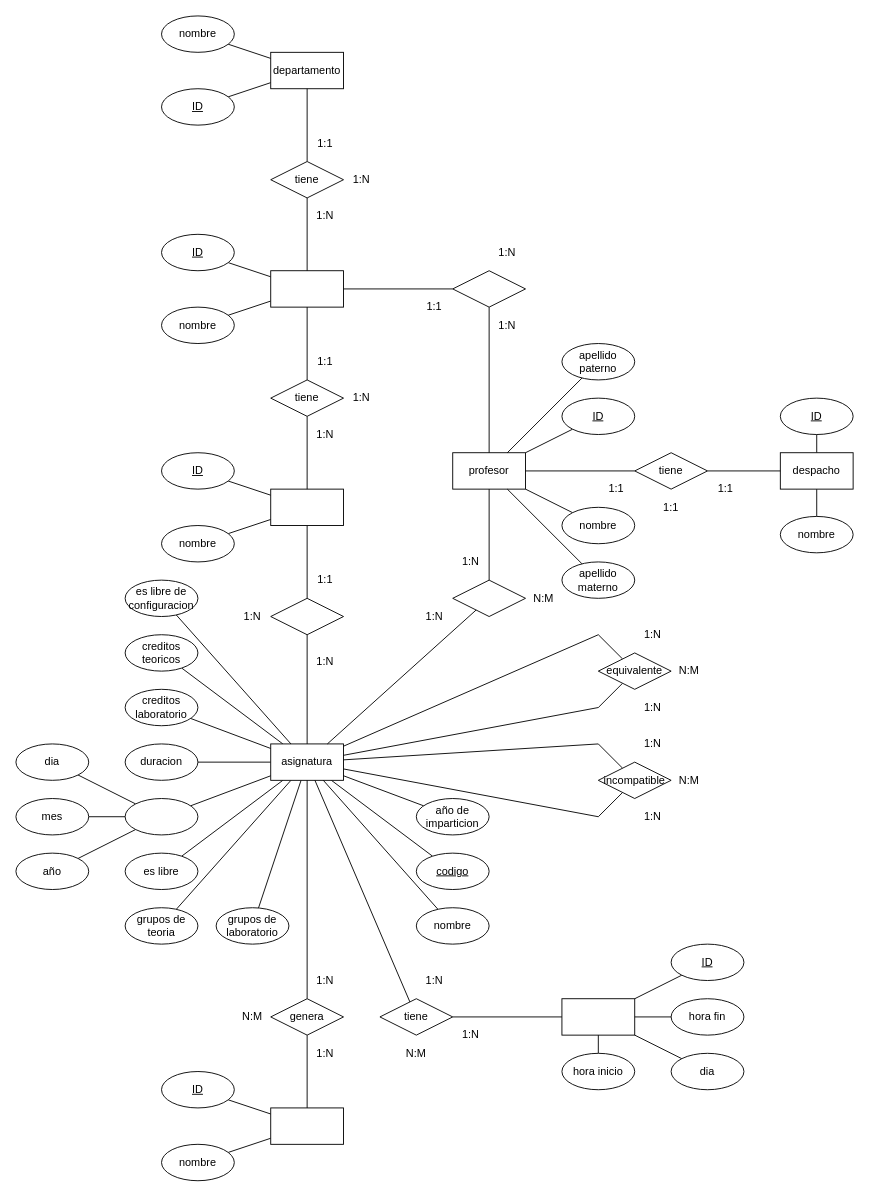
This 869x1197 diagram has some shape labels left out. Here are the shapes that lost their labels. From the top down, the centre of each, then its label:
(x=307, y=288): area de conocimiento
(x=489, y=288): pertenece
(x=307, y=507): titulacion
(x=307, y=616): imparte
(x=489, y=598): dicta
(x=161, y=816): limite de asignacion
(x=598, y=1016): horario de consulta
(x=307, y=1125): tipo informe
